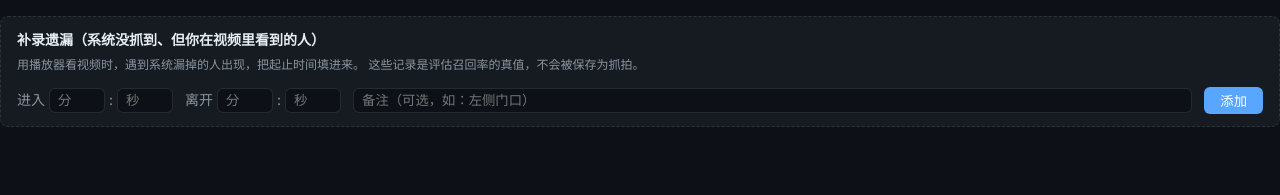
Test: MissedEvents › submits a valid entry and shows it in the list
The width and height of the screenshot is (1280, 195).
Type "1" into the number field labelled "进入 :". click: (77, 100)
box: [49, 88, 105, 113]
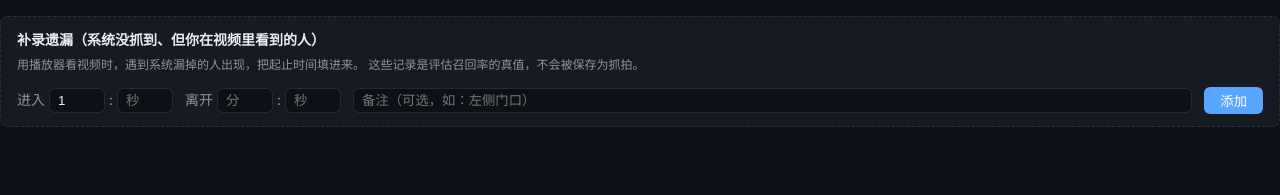
Type "0" into the number field with placeholder "秒" next to "进入". click: (145, 100)
box: [117, 88, 173, 113]
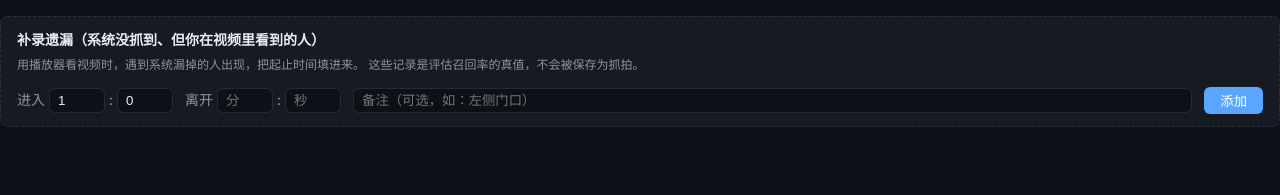
Type "1" into the number field labelled "离开 :". click: (245, 100)
box: [217, 88, 273, 113]
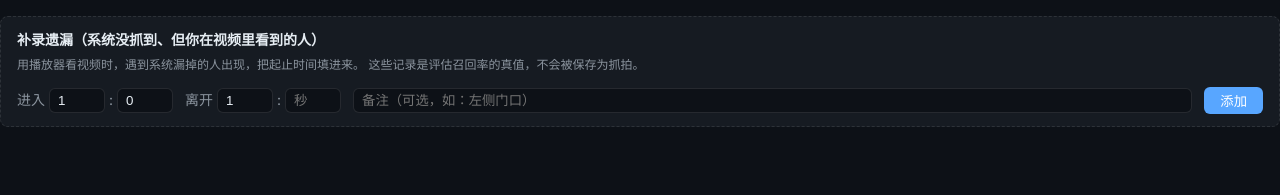
Type "15" into the number field with placeholder "秒". click: (313, 100)
box: [285, 88, 341, 113]
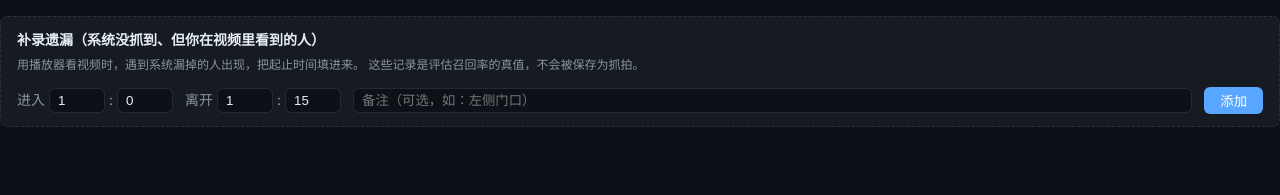
Type "左侧门口" into the field with class "note". click: (773, 100)
box: [353, 88, 1192, 113]
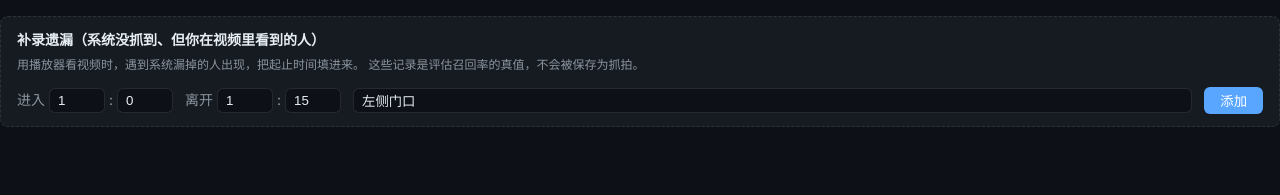
Submit the form, box [17, 87, 1263, 114]
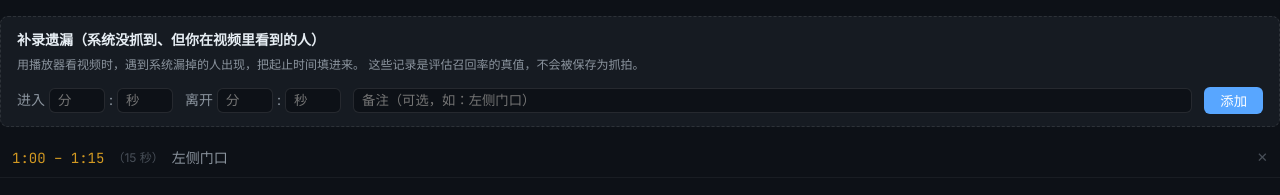
Expected: the list item "1:00 – 1:15 （15 秒） 左侧门口 ✕" is shown, [0, 139, 1279, 178]
